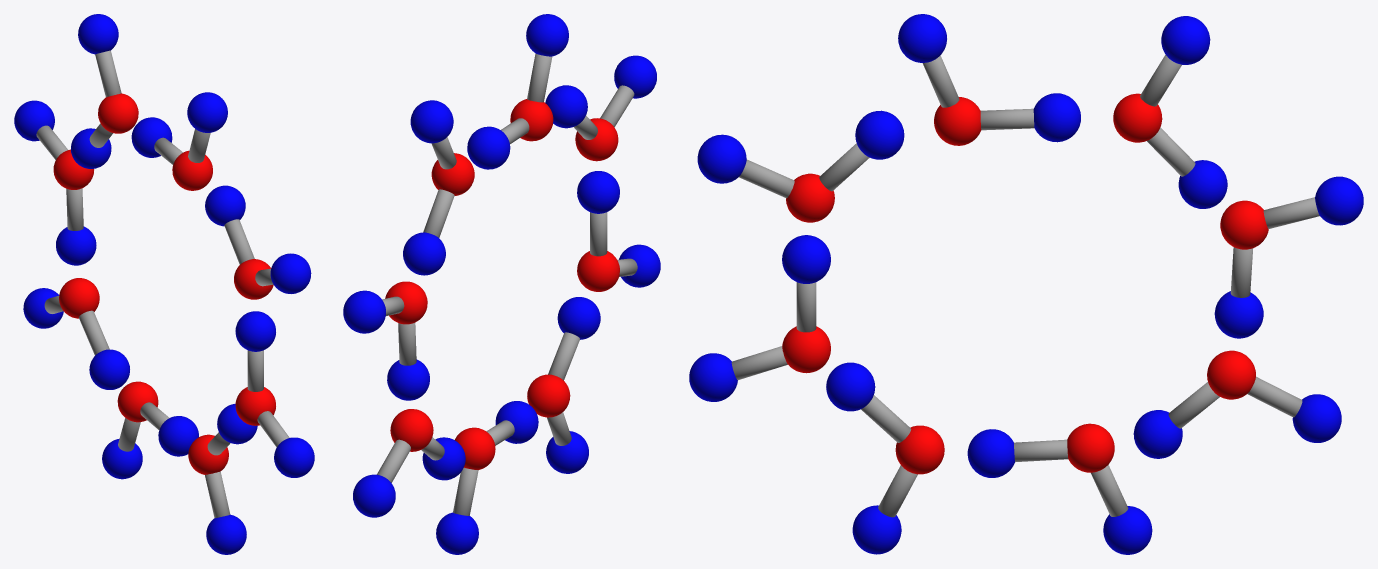
File: WaterIce.gltf
3 renders of one model, left to right at view 1: azimuth 30°, elevation 25°; view 2: azimuth 150°, elevation 25°; view 3: azimuth 270°, elevation 25°, orthographic. The views are drawn at different scales.
Visible parts, largest first — view 1: Sphere.007; view 2: Sphere.007; view 3: Sphere.007.
Part boxes in pixels (x1,y1,x2,y2): Sphere.007: (14, 14, 314, 554); Sphere.007: (343, 14, 660, 554); Sphere.007: (689, 14, 1363, 554).
Size of the model in its own units: 1 by 12.05 by 13.74.
